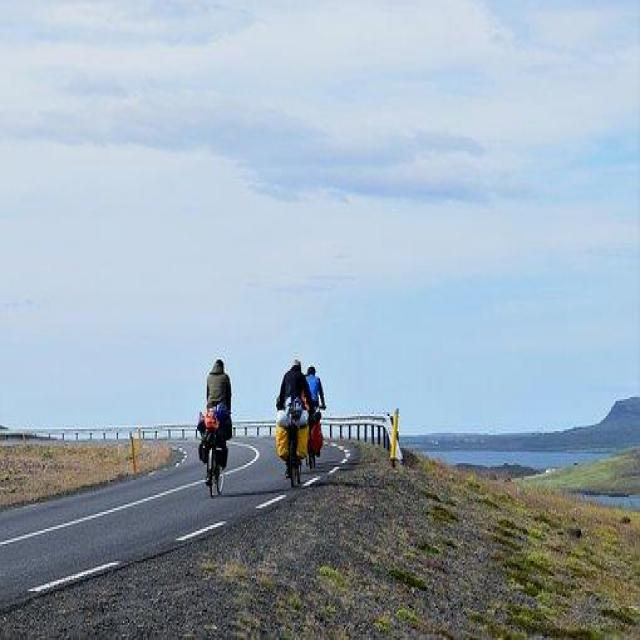bikerider: (192, 348, 233, 497), (269, 352, 311, 489)
